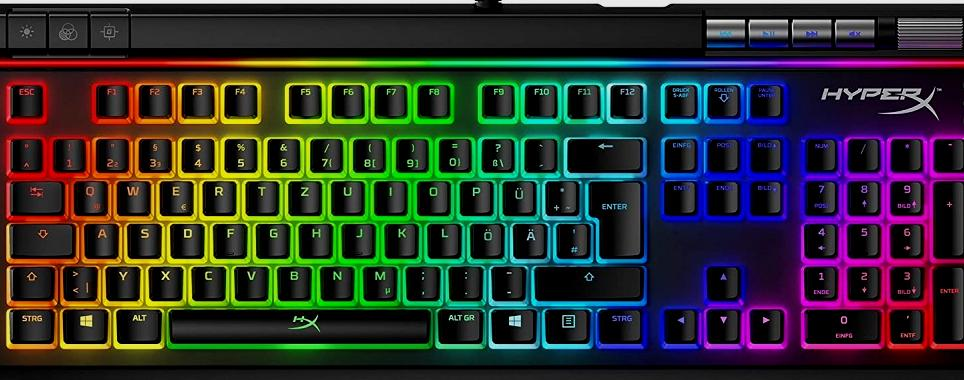0: (435, 135, 472, 172)
1: (51, 135, 84, 169)
2: (92, 135, 128, 170)
3: (136, 135, 170, 170)
4: (179, 135, 214, 170)
5: (222, 135, 257, 171)
6: (264, 135, 301, 171)
7: (307, 135, 343, 171)
8: (349, 135, 386, 172)
9: (393, 135, 428, 171)
a: (82, 219, 117, 255)
accent: (521, 135, 556, 170)
ae: (510, 220, 546, 256)
alt-left: (114, 305, 161, 341)
altgr-right: (435, 306, 482, 342)
b: (275, 262, 311, 297)
c: (189, 262, 225, 297)
caret: (9, 135, 41, 168)
comma: (403, 262, 438, 299)
d: (167, 219, 203, 255)
del: (565, 135, 642, 169)
e: (157, 176, 193, 213)
enter: (584, 175, 641, 255)
f: (212, 220, 246, 255)
g: (253, 220, 289, 255)
h: (297, 220, 331, 255)
hash: (553, 220, 588, 256)
i: (373, 177, 406, 212)
j: (340, 219, 374, 255)
k: (382, 219, 417, 256)
keyboard: (1, 48, 964, 374)
l: (425, 220, 460, 255)
less: (59, 262, 96, 298)
m: (360, 262, 396, 298)
minus: (488, 263, 524, 299)
n: (318, 262, 353, 298)
o: (414, 177, 449, 213)
oe: (467, 220, 503, 256)
p: (457, 177, 492, 213)
plus: (543, 177, 577, 214)
point: (447, 263, 481, 298)
q: (71, 177, 106, 212)
r: (200, 177, 236, 212)
s: (125, 219, 160, 255)
shift-left: (8, 262, 53, 297)
shift-lock: (8, 220, 74, 255)
shift-right: (532, 263, 642, 299)
space: (165, 304, 431, 344)
ss: (478, 135, 514, 171)
strg-left: (6, 304, 53, 341)
strg-right: (596, 306, 642, 342)
t: (244, 177, 278, 212)
tab: (10, 177, 62, 211)
u: (329, 177, 364, 213)
ue: (500, 177, 534, 214)
v: (233, 262, 268, 297)
w: (114, 176, 149, 213)
x: (147, 262, 183, 298)
y: (104, 262, 139, 297)
z: (286, 177, 321, 212)
